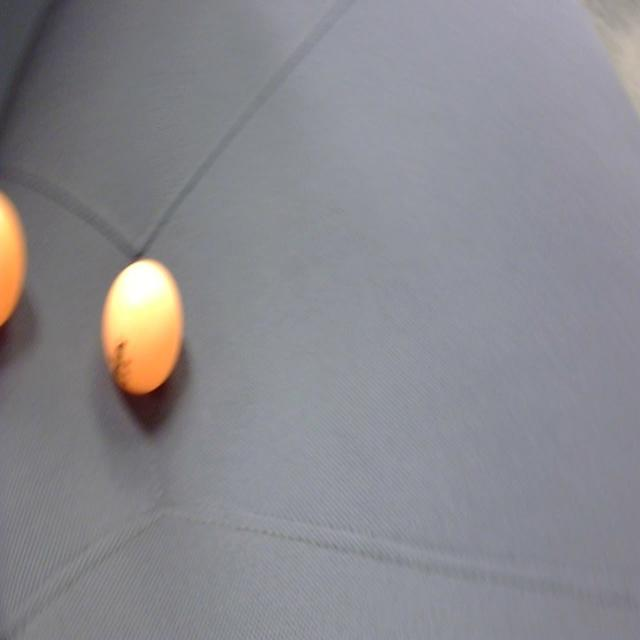ball: (100, 256, 186, 399), (0, 178, 29, 341)
